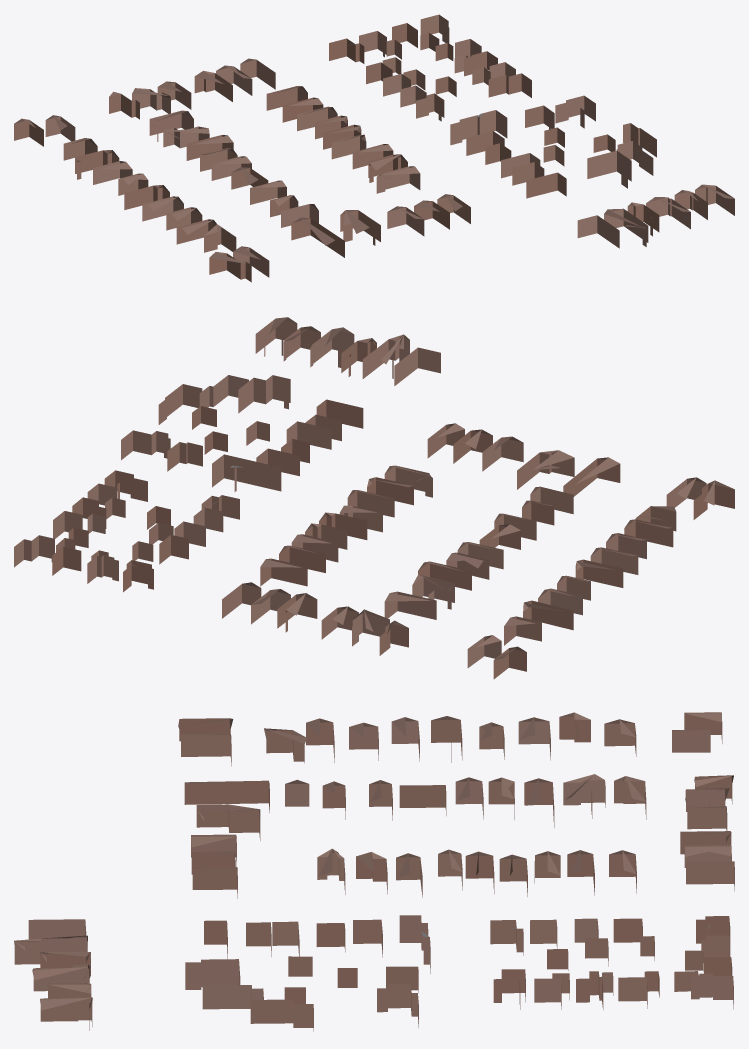
Rendered from c_1642_17825_buildings_residential.glb.
3 views of the same model, one above another, from view 1: azimuth 30°, elevation 25°; view 2: azimuth 150°, elevation 25°; view 3: azimuth 270°, elevation 25° (orthographic). The views are drawn at different scales.
Parts seen in each view (by area): view 1: geometry_0; view 2: geometry_0; view 3: geometry_0.
Boxes of the visible parts, left/top/right/bottom form: geometry_0: left=14, top=14, right=734, bottom=282; geometry_0: left=14, top=317, right=734, bottom=679; geometry_0: left=14, top=712, right=734, bottom=1031.
Bounding box in the file's own units: 256 × 11.08 × 260.
